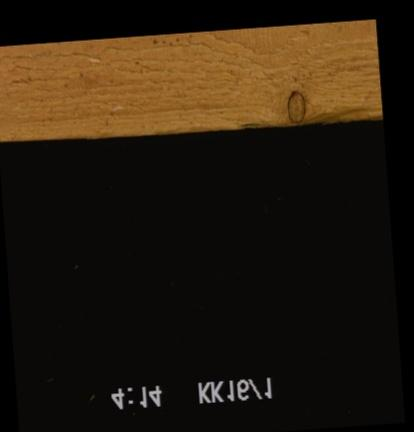dry_knot: (285, 89, 305, 122)
wave: (238, 114, 382, 126)
